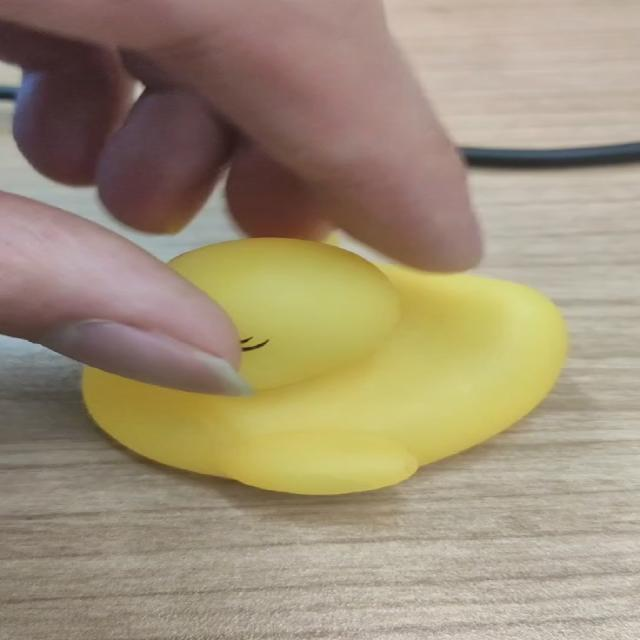rubber-duck: (82, 238, 565, 492)
